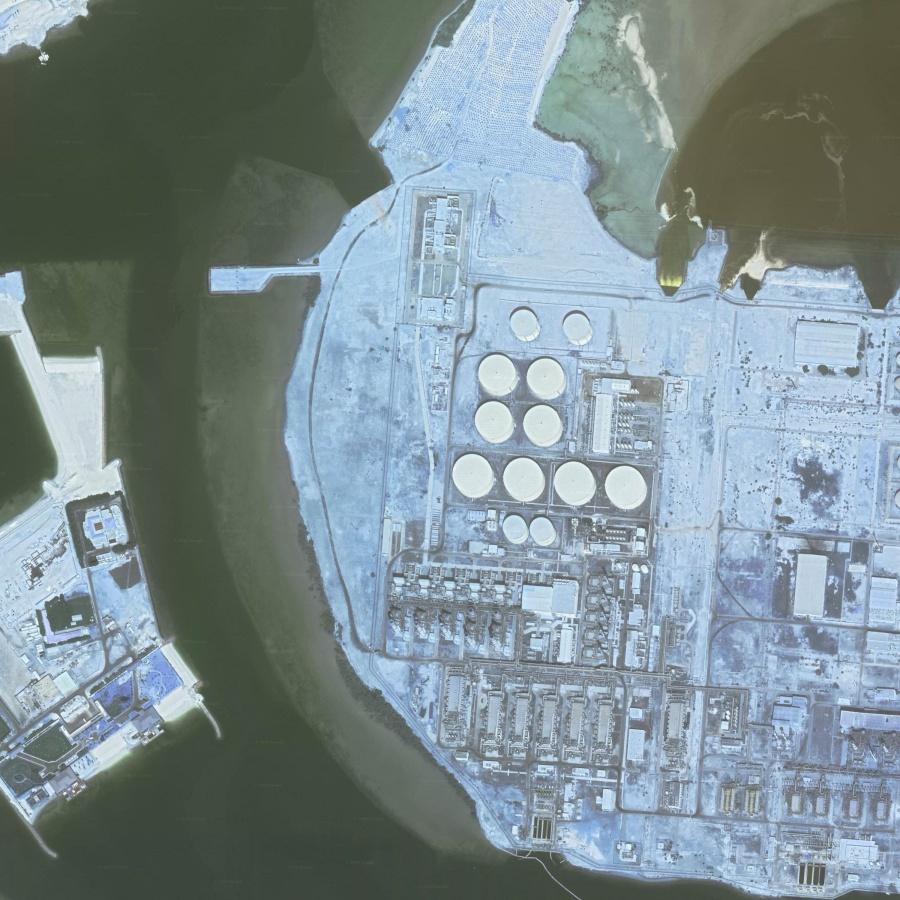PowerPlant: (380, 294, 680, 683)
